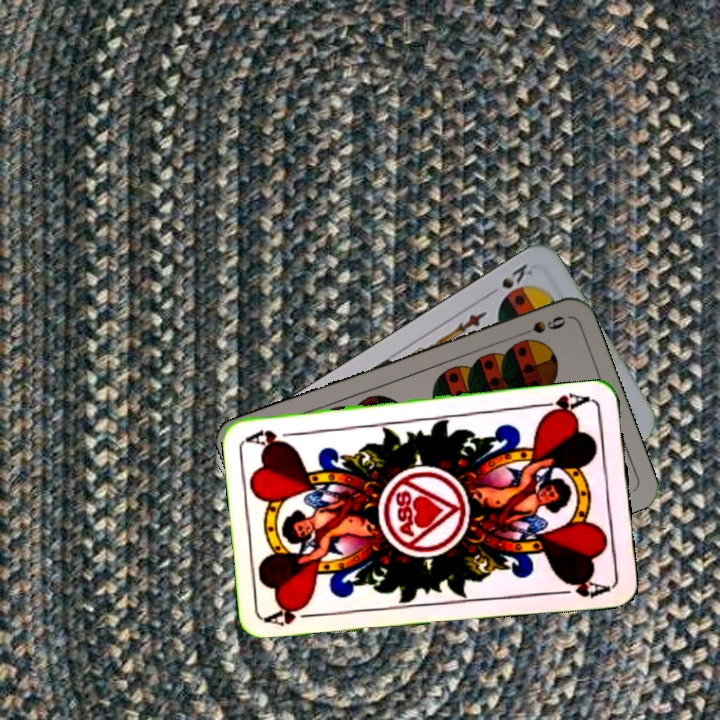HA: (535, 389, 594, 419), (263, 601, 323, 629)
S9: (511, 312, 569, 341)
SK: (483, 259, 536, 300)
